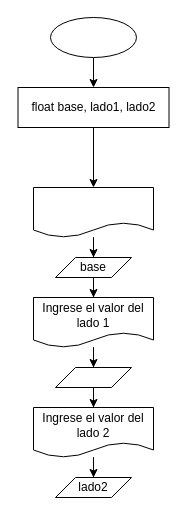
Image size: 186x515. Some labels were removed from this diagram. The shapes that lost their labels are listed below. From the top down, each one's centre as x and y in pixels, then its label:
(93,37): INCIO
(93,212): Ingrese el valor de la Base
(93,377): lado1
